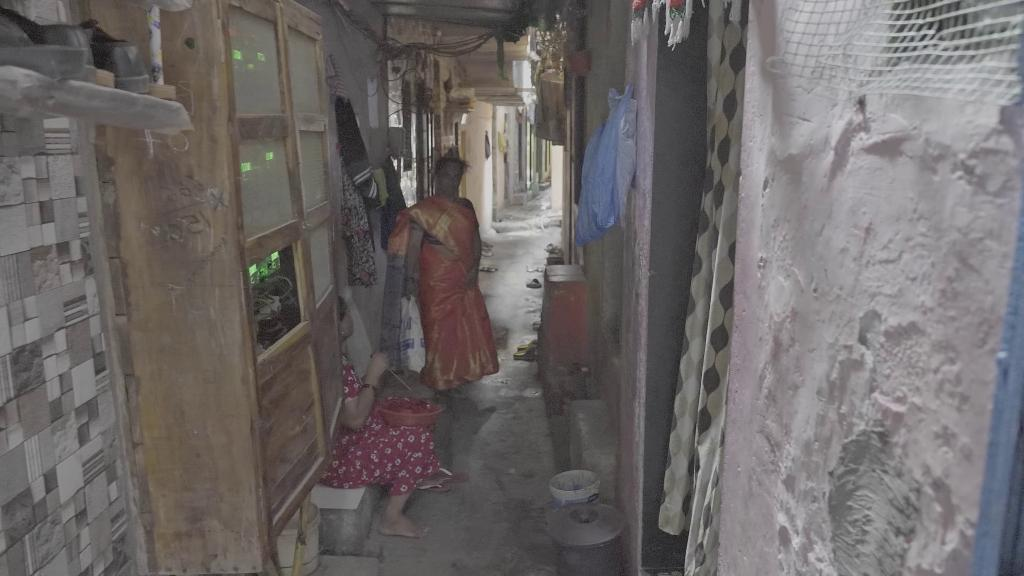garbage: (568, 75, 641, 248)
